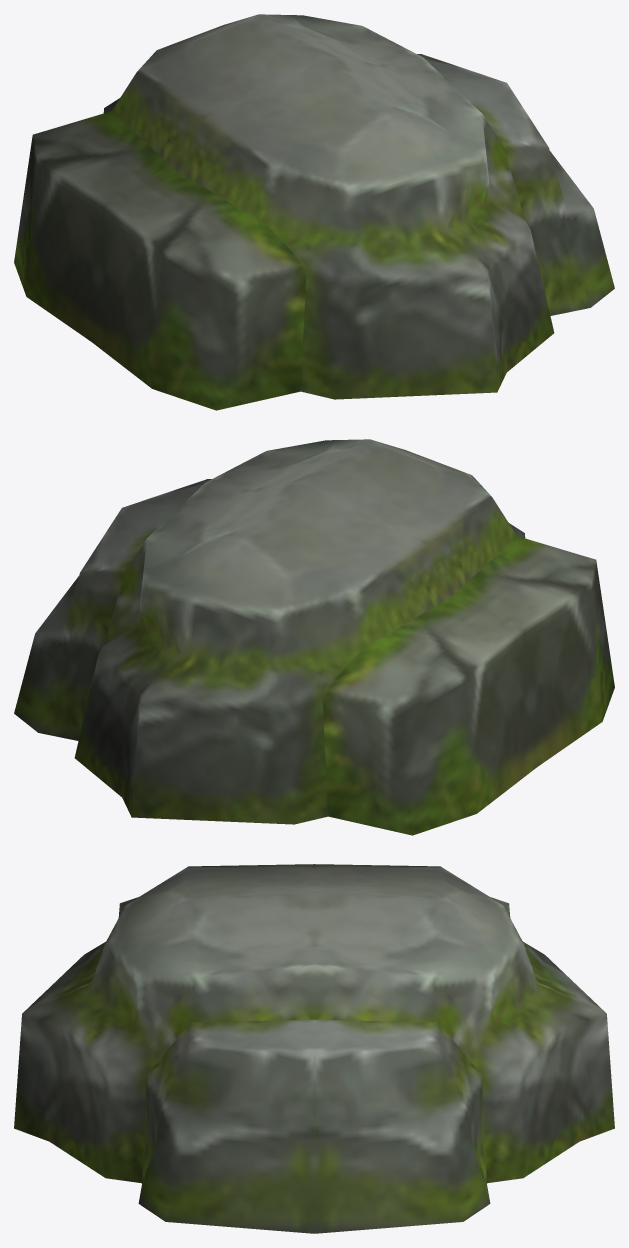
File: shitou03_01.FBX
The picture shows the model from 3 angles, top to bottom: view 1: azimuth 30°, elevation 25°; view 2: azimuth 150°, elevation 25°; view 3: azimuth 270°, elevation 25°; orthographic projection.
Parts seen in each view (by area): view 1: shitou03_01; view 2: shitou03_01; view 3: shitou03_01.
Boxes of the visible parts, x1,y1,x2,y2 form: shitou03_01: [14, 14, 614, 410]; shitou03_01: [14, 439, 614, 835]; shitou03_01: [14, 864, 614, 1233].
Size of the model in its own units: 255 by 118 by 285.
Materials: 1 (1 with a texture image).
